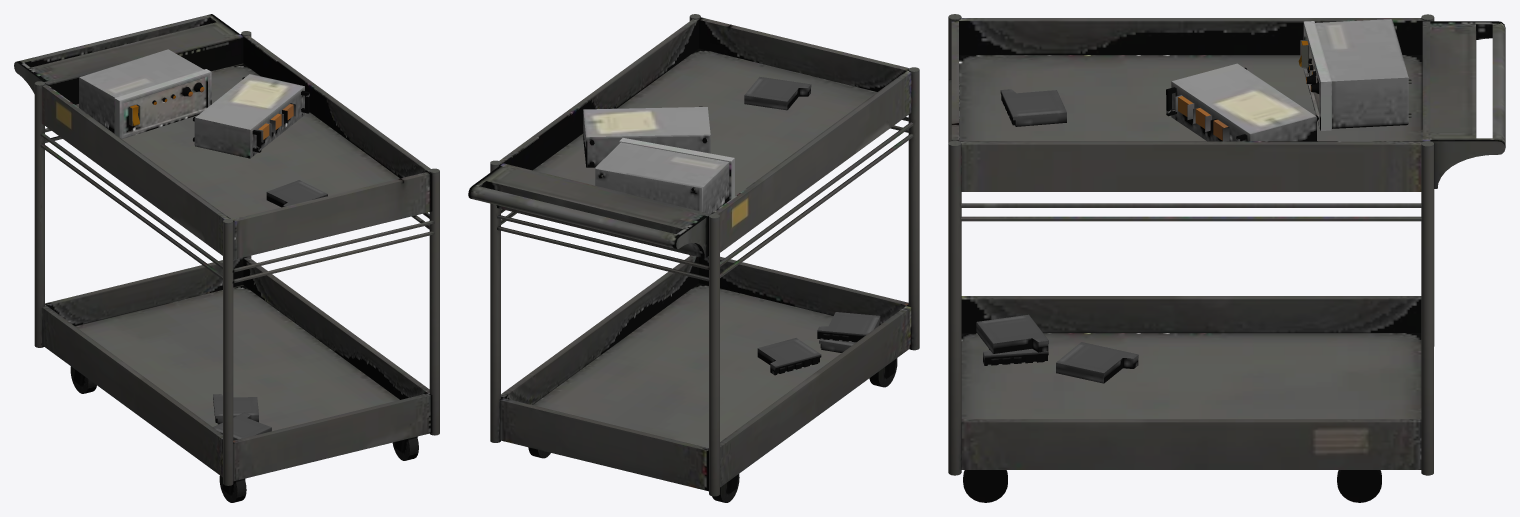
The picture shows the model from 3 angles, left to right: view 1: azimuth 30°, elevation 25°; view 2: azimuth 150°, elevation 25°; view 3: azimuth 270°, elevation 25°; orthographic projection. The views are drawn at different scales.
Visible parts, largest first — view 1: body0_model0_lod0_mesh0; view 2: body0_model0_lod0_mesh0; view 3: body0_model0_lod0_mesh0.
Part boxes in pixels (x1,y1,x2,y2): body0_model0_lod0_mesh0: [14, 14, 439, 502]; body0_model0_lod0_mesh0: [468, 14, 919, 502]; body0_model0_lod0_mesh0: [948, 14, 1505, 502].
Size of the model in its own units: 41.75 by 56.23 by 74.49.
Materials: 1 (1 with a texture image).
